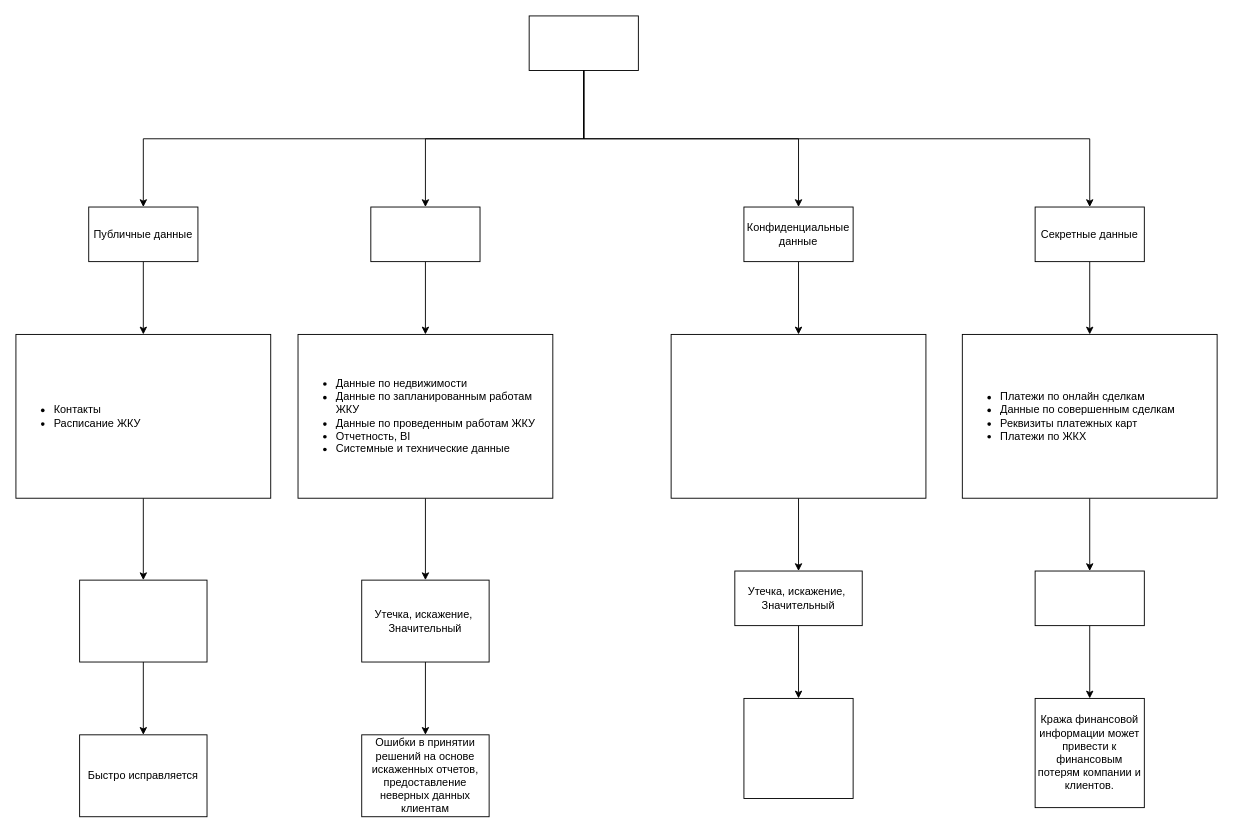
The diagram is 1233 pixels wide and 833 high, and some of its shapes have lost their labels. Each missing label, with the centre of its shape:
Безопасность данных: [583,43]
Внутренние данные: [425,234]
Искажение, Незначительный: [143,620]
Контактные данные клиента Данные собственников Брони по недвижимости: [798,416]
Утечка персональных данных приведёт к штрафам и потере доверия клиентов.: [798,748]
Утечка, потеря, Критический: [1089,598]
